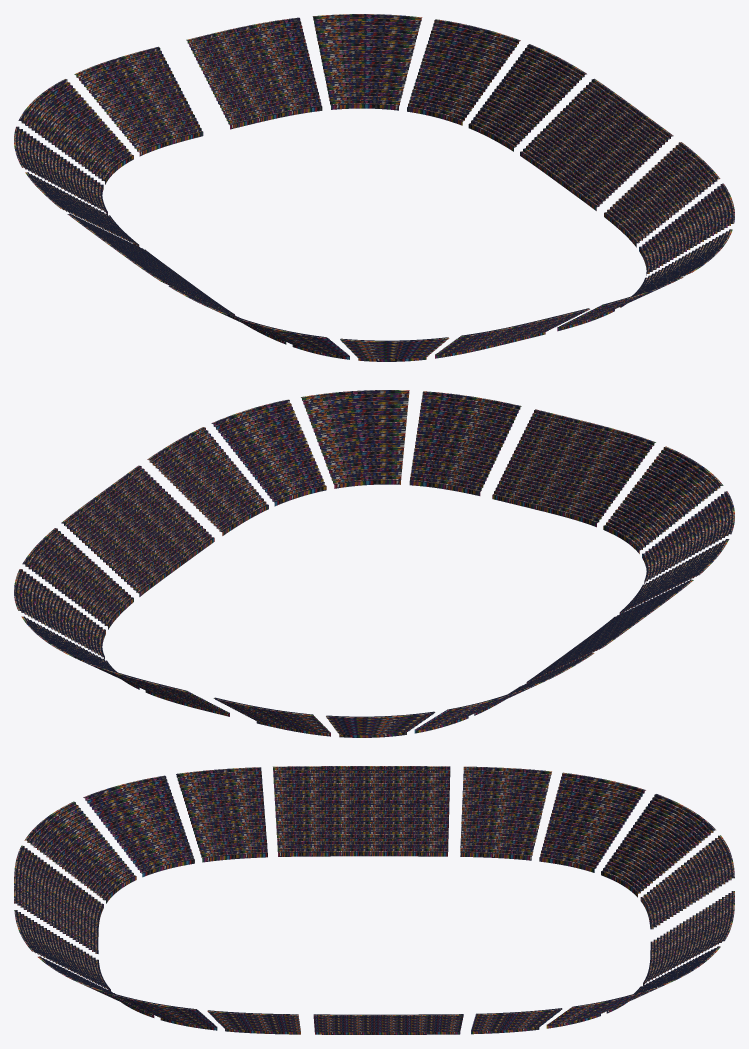
File: SeatsUpper.obj
The picture shows the model from 3 angles, top to bottom: view 1: azimuth 30°, elevation 25°; view 2: azimuth 150°, elevation 25°; view 3: azimuth 270°, elevation 25°; orthographic projection. The views are drawn at different scales.
Parts seen in each view (by area): view 1: SeatsUpper; view 2: SeatsUpper; view 3: SeatsUpper.
Part boxes in pixels (left/top/right/bottom): SeatsUpper: left=14, top=14, right=734, bottom=361; SeatsUpper: left=14, top=390, right=734, bottom=737; SeatsUpper: left=14, top=766, right=734, bottom=1034.
Bounding box in the file's own units: 164 × 16.72 × 200.
1 material, 1 textured.
